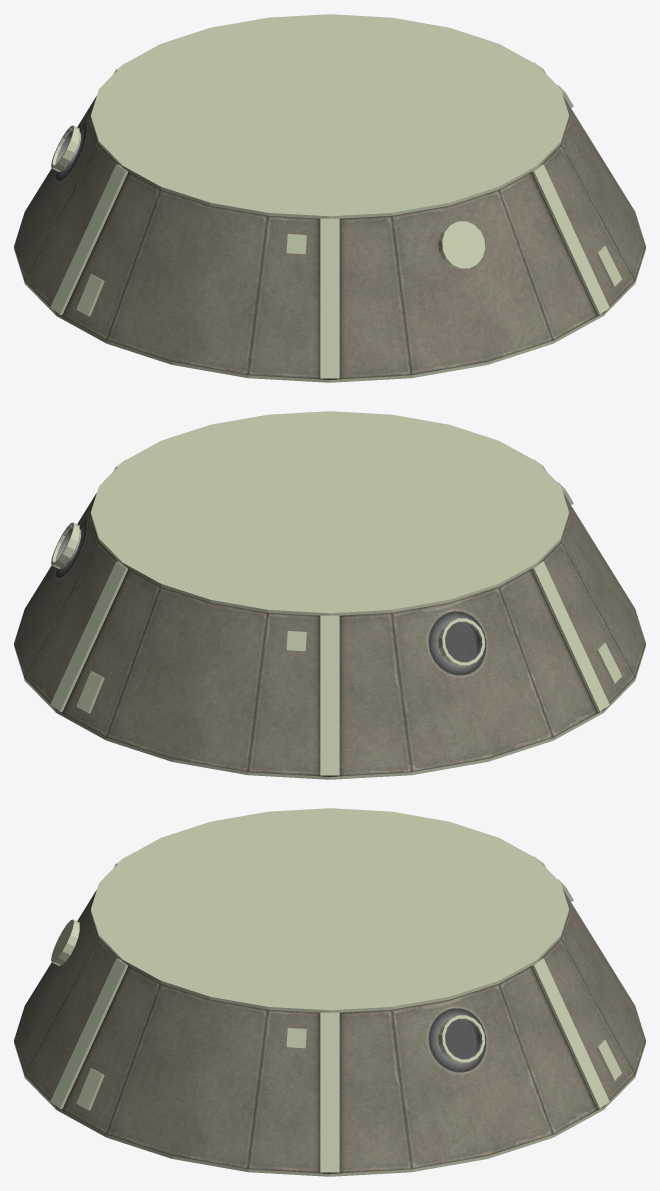
Rendered from alnair_crew_s2_1_interior.obj.
3 renders of one model, top to bottom at view 1: azimuth 30°, elevation 25°; view 2: azimuth 150°, elevation 25°; view 3: azimuth 270°, elevation 25°, orthographic.
Visible parts, largest first — view 1: interior2, mask2; view 2: interior2, mask2; view 3: interior2, mask2.
Part boxes in pixels (box(x1,y1,x2,y2)): interior2: box(14, 96, 645, 379); mask2: box(14, 14, 645, 382); interior2: box(14, 493, 645, 776); mask2: box(14, 411, 645, 779); interior2: box(14, 890, 645, 1173); mask2: box(14, 808, 645, 1176).
Size of the model in its own units: 2.47 by 0.575 by 2.46.
3 materials, 2 textured.
